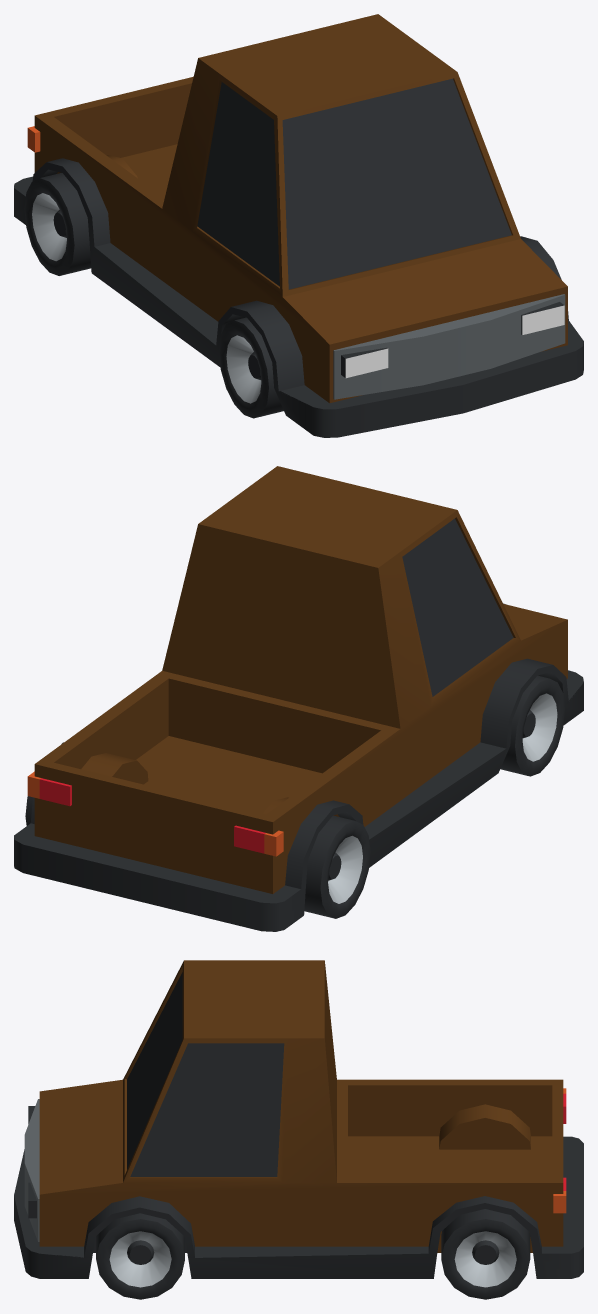
The model's file is Car_7.fbx.
The picture shows the model from 3 angles, top to bottom: view 1: azimuth 30°, elevation 25°; view 2: azimuth 150°, elevation 25°; view 3: azimuth 270°, elevation 25°; orthographic projection. The views are drawn at different scales.
Parts seen in each view (by area): view 1: Car7, Car7Wheel4, Car7Wheel2; view 2: Car7, Car7Wheel4, Car7Wheel2; view 3: Car7, Car7Wheel3, Car7Wheel1.
Boxes of the visible parts, x1=… form: Car7: x1=14, y1=14, x2=583, y2=437; Car7Wheel4: x1=24, y1=173, x2=91, y2=275; Car7Wheel2: x1=219, y1=317, x2=283, y2=418; Car7: x1=14, y1=466, x2=583, y2=931; Car7Wheel4: x1=304, y1=815, x2=370, y2=918; Car7Wheel2: x1=500, y1=675, x2=564, y2=776; Car7: x1=14, y1=960, x2=583, y2=1278; Car7Wheel3: x1=441, y1=1209, x2=530, y2=1299; Car7Wheel1: x1=96, y1=1213, x2=184, y2=1299.
Size of the model in its own units: 299 by 256 by 558.
Materials: 1 (1 with a texture image).
